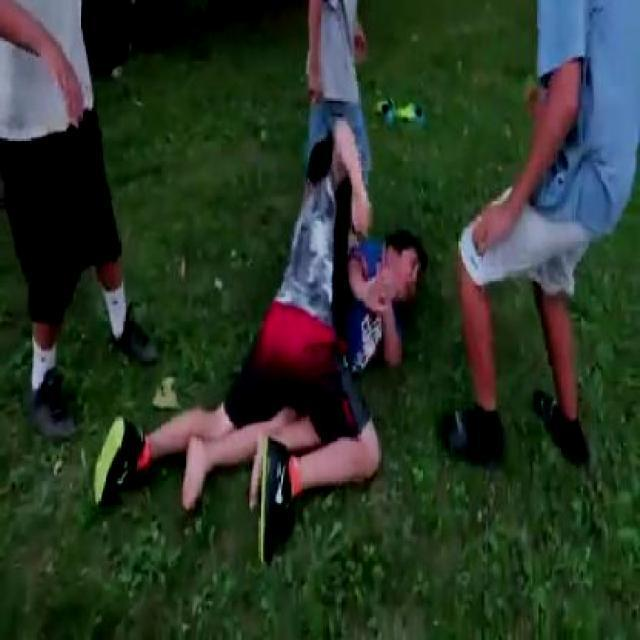fight: (236, 120, 424, 398)
